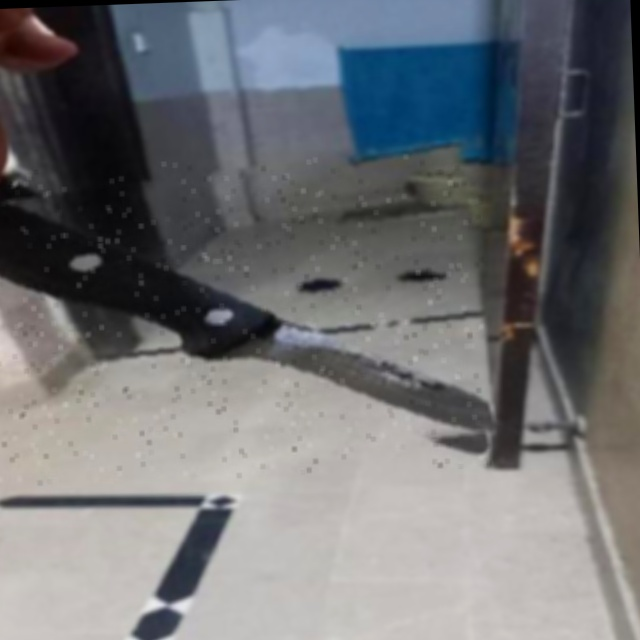Sharp-Object: (0, 151, 491, 486)
